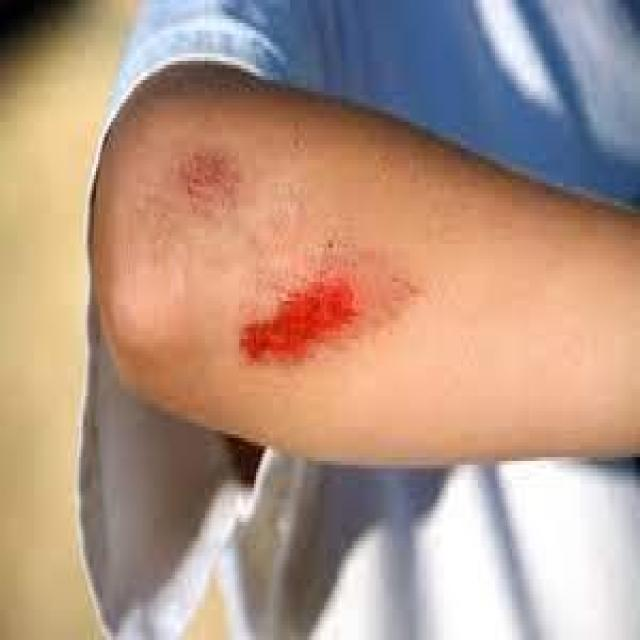Cut: (238, 262, 361, 370)
